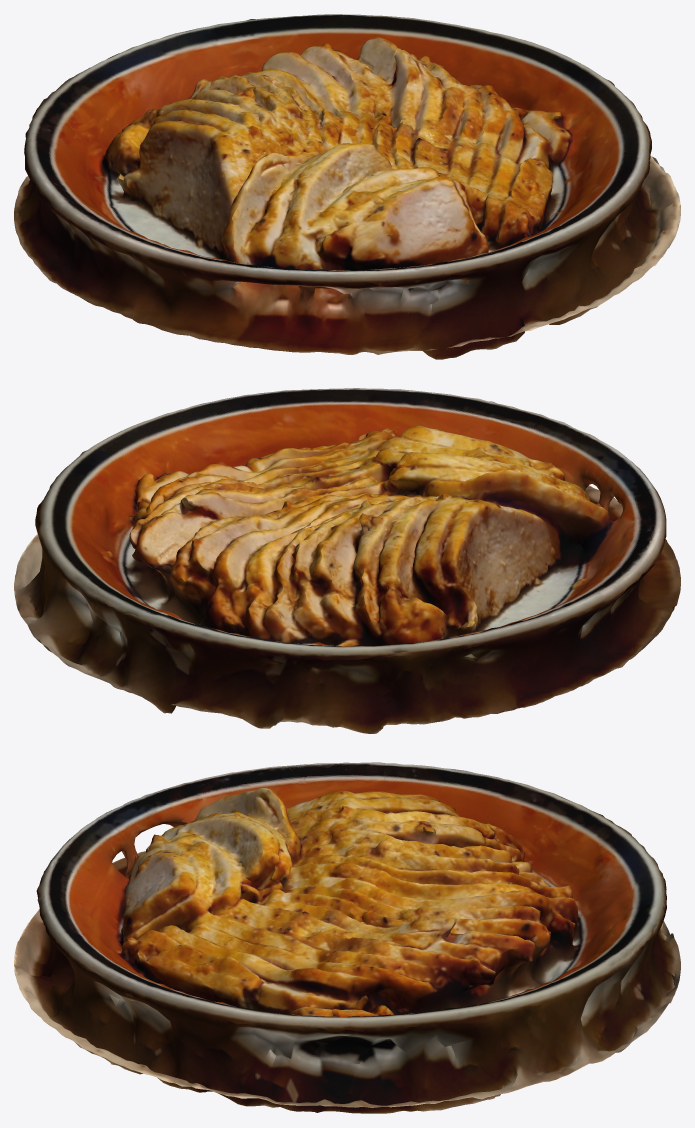
3 renders of one model, top to bottom at view 1: azimuth 30°, elevation 25°; view 2: azimuth 150°, elevation 25°; view 3: azimuth 270°, elevation 25°, orthographic.
Parts seen in each view (by area): view 1: Object_4; view 2: Object_4; view 3: Object_4.
Boxes of the visible parts, left/top/right/bottom form: Object_4: left=14, top=14, right=680, bottom=359; Object_4: left=14, top=388, right=680, bottom=733; Object_4: left=14, top=762, right=680, bottom=1113.
Size of the model in its own units: 0.2947 by 0.0659 by 0.2946.
1 material, 1 textured.
